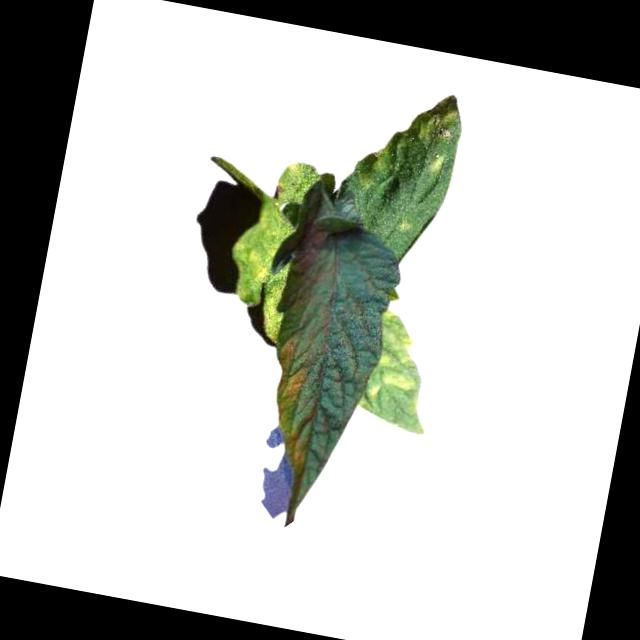Leaf_Mold: (363, 82, 469, 203), (219, 195, 304, 342), (362, 305, 434, 418), (270, 337, 316, 408), (281, 427, 317, 477)
